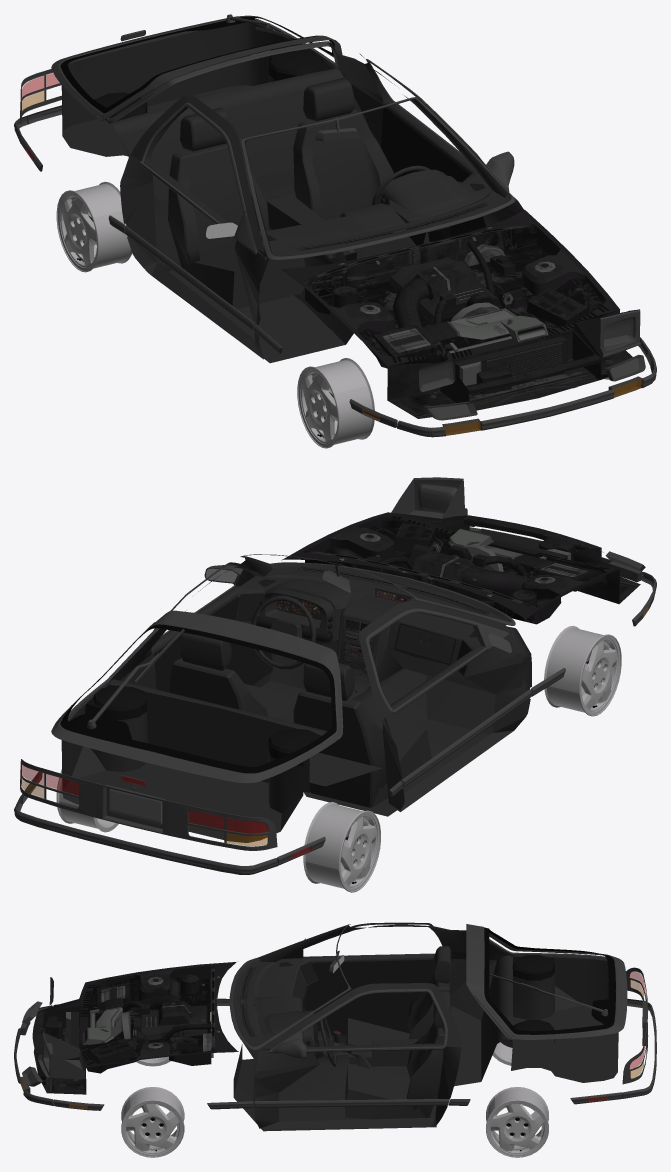
The picture shows the model from 3 angles, top to bottom: view 1: azimuth 30°, elevation 25°; view 2: azimuth 150°, elevation 25°; view 3: azimuth 270°, elevation 25°; orthographic projection. The views are drawn at different scales.
Visible parts, largest first — view 1: fc_n:lod12, fc_n:lod14, fc_n:lod10, fc_n:lod13, fc_n:lod0; view 2: fc_n:lod12, fc_n:lod14, fc_n:lod10, fc_n:lod13, fc_n:lod0, fc_n:lod11; view 3: fc_n:lod12, fc_n:lod14, fc_n:lod10, fc_n:lod13, fc_n:lod0.
Boxes of the visible parts, bbox=[...] form: fc_n:lod12: bbox=[61, 22, 632, 418]; fc_n:lod14: bbox=[14, 14, 656, 437]; fc_n:lod10: bbox=[56, 181, 609, 448]; fc_n:lod13: bbox=[60, 16, 334, 238]; fc_n:lod0: bbox=[22, 73, 641, 435]; fc_n:lod12: bbox=[61, 512, 640, 842]; fc_n:lod14: bbox=[14, 477, 656, 874]; fc_n:lod10: bbox=[56, 625, 621, 892]; fc_n:lod13: bbox=[60, 568, 511, 773]; fc_n:lod0: bbox=[21, 529, 649, 858]; fc_n:lod11: bbox=[109, 788, 162, 824]; fc_n:lod12: bbox=[32, 924, 618, 1131]; fc_n:lod14: bbox=[14, 922, 656, 1110]; fc_n:lod10: bbox=[121, 1039, 548, 1157]; fc_n:lod13: bbox=[304, 927, 615, 1034]; fc_n:lod0: bbox=[20, 971, 647, 1108].
Size of what is drawn, in the model's own units: 1.78 by 1.14 by 4.27.
8 materials, 2 textured.
